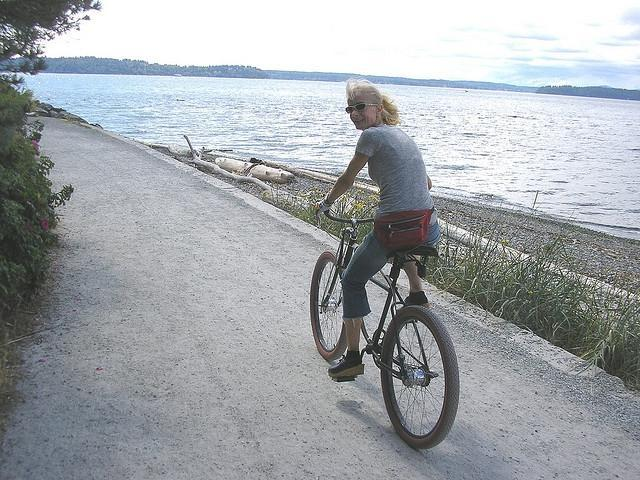bicycle: (308, 214, 458, 454)
